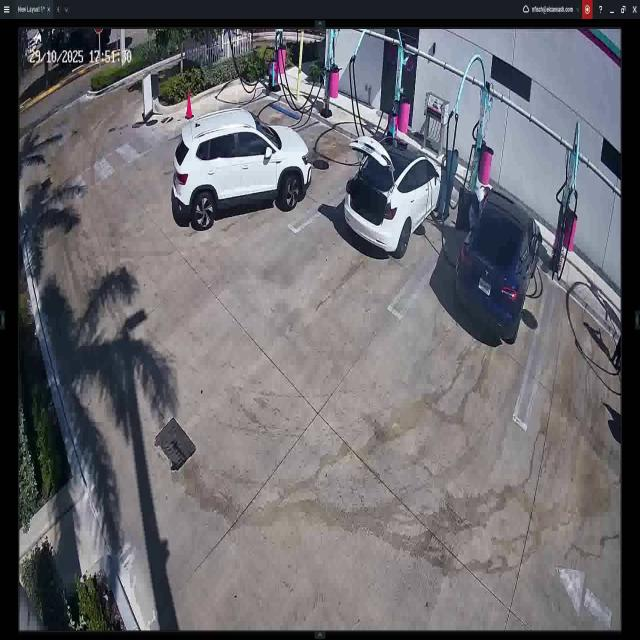Car: (171, 102, 308, 226), (456, 185, 540, 344), (348, 132, 447, 264)
